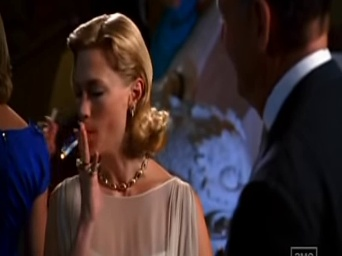smoke: (58, 137, 79, 160)
